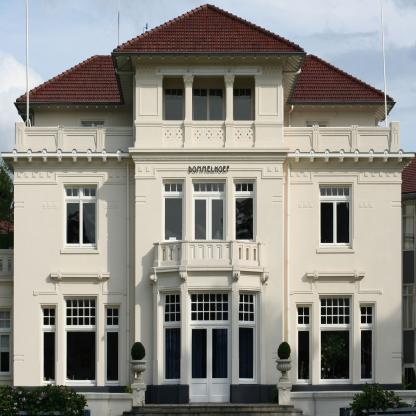Balcony: (149, 241, 270, 273)
Building Outline: (1, 3, 416, 402)
Cornice: (50, 270, 110, 281), (307, 269, 366, 280)
Deco: (189, 166, 230, 172)
Door: (188, 325, 232, 402), (192, 194, 226, 264)
Facade: (14, 127, 402, 402)
Floor: (14, 158, 402, 279)
Floor Slab: (14, 273, 402, 279), (14, 152, 402, 158)
Ground Floor: (14, 279, 402, 402)
Molding: (12, 156, 122, 163), (294, 157, 403, 163)
Roof: (19, 57, 389, 101), (116, 7, 302, 52)
Sill: (61, 249, 100, 254), (317, 248, 355, 253)
Top Floor: (34, 57, 376, 158)
Window: (319, 295, 353, 385), (64, 296, 97, 386), (64, 184, 97, 249), (319, 184, 352, 248), (239, 290, 261, 383), (158, 290, 180, 383), (192, 75, 226, 120), (188, 290, 232, 324), (234, 179, 256, 245), (163, 179, 185, 245), (296, 304, 312, 385), (360, 303, 375, 385), (105, 305, 120, 386), (41, 305, 56, 386), (162, 75, 185, 120), (233, 75, 255, 120), (192, 179, 226, 194)
dont: (0, 383, 91, 416), (339, 381, 416, 416), (275, 341, 293, 405), (130, 341, 147, 406)
